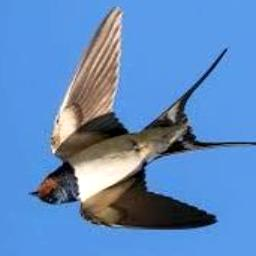Swallow: (30, 7, 256, 230)
